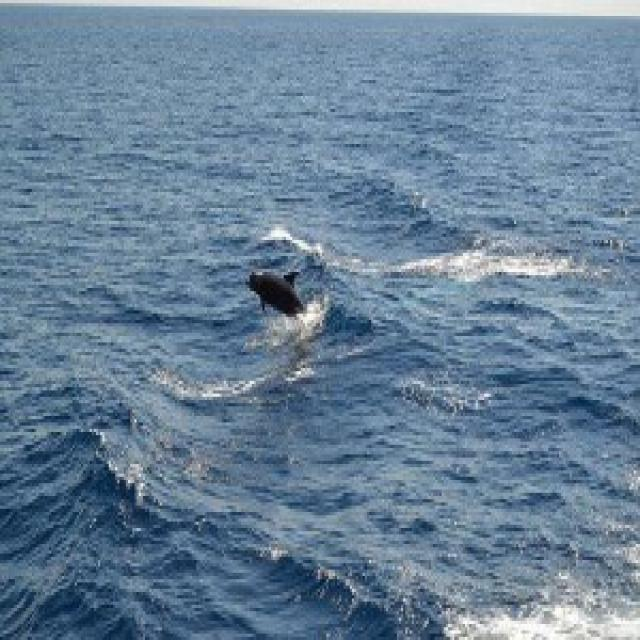Dolphin: (243, 250, 324, 333)
